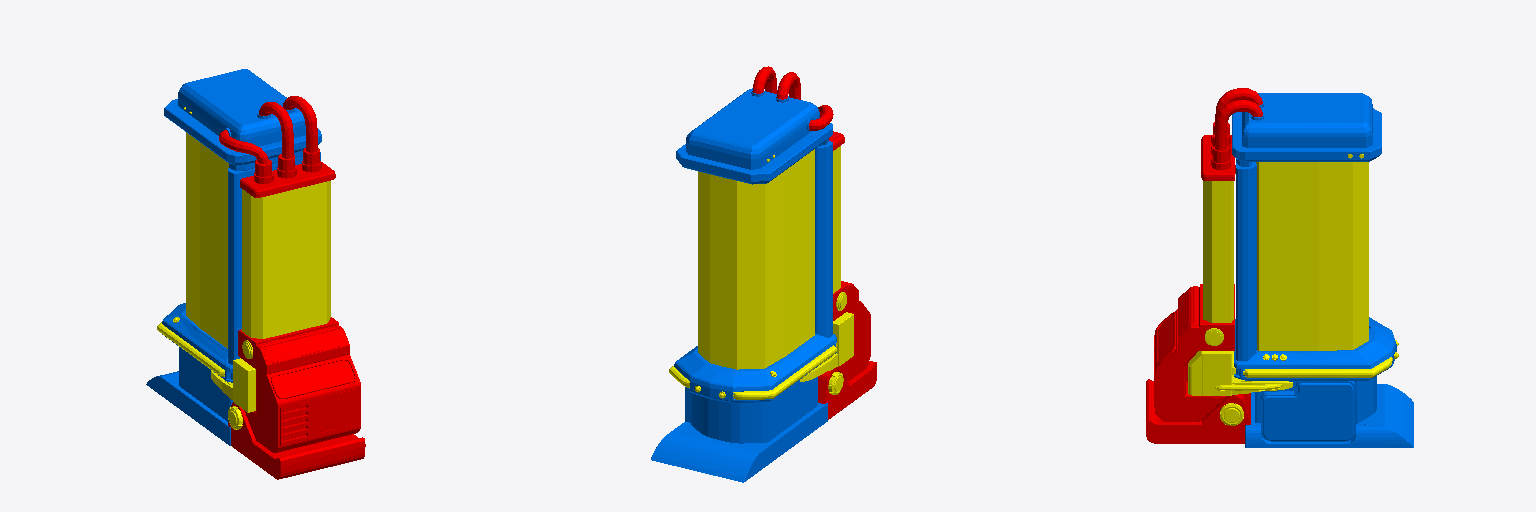
The model's file is SciFiContainer.obj.
3 views of the same model, side by side, from view 1: azimuth 30°, elevation 25°; view 2: azimuth 150°, elevation 25°; view 3: azimuth 270°, elevation 25° (orthographic).
Visible parts, largest first — view 1: Paludarium Yellow2 Yellow1:PaludariumGlassesSideTank, Paludarium Blue Top_Stage_lo Top, Paludarium Red ControlPanelBody polySurface12, Paludarium Yellow2 Yellow1:PaludariumMainTankGlasses, Paludarium Red Base, Paludarium Blue BaseStage_lo, Paludarium Blue SideStage_lo, Paludarium Red Pipes, Paludarium Red pCube1 ControlPanelBody, Paludarium Blue BodyStage_lo, Paludarium Red ConnectorStage, Paludarium Yellow1:PaludariumConnectorConnectorYellow1Paludarium (+4 smaller); view 2: Paludarium Yellow2 Yellow1:PaludariumMainTankGlasses, Paludarium Blue BaseStage_lo, Paludarium Blue Top_Stage_lo Top, Paludarium Blue BodyStage_lo, Paludarium Blue SideStage_lo, Paludarium Red ControlPanelBody polySurface12, Paludarium Red Base, Paludarium Red Pipes, Paludarium Yellow1:PaludariumConnectorConnectorYellow1Paludarium, Paludarium Yellow2 Yellow1:PaludariumGlassesStageTube, Paludarium Yellow2 Yellow1:PaludariumGlassesSideTank; view 3: Paludarium Yellow2 Yellow1:PaludariumMainTankGlasses, Paludarium Blue Top_Stage_lo Top, Paludarium Blue StageTank_lo, Paludarium Blue BaseStage_lo, Paludarium Red ControlPanelBody polySurface12, Paludarium Yellow2 Yellow1:PaludariumGlassesSideTank, Paludarium Blue SideStage_lo, Paludarium Blue BodyStage_lo, Paludarium Red Base, Paludarium Yellow1:PaludariumConnectorConnectorYellow1Paludarium, Paludarium Red Pipes, Paludarium Yellow2 Yellow1:PaludariumGlassesStageTube (+3 smaller).
Boxes of the visible parts, x1=… form: Paludarium Yellow2 Yellow1:PaludariumGlassesSideTank: x1=242, y1=181, x2=330, y2=338; Paludarium Blue Top_Stage_lo Top: x1=164, y1=69, x2=321, y2=170; Paludarium Red ControlPanelBody polySurface12: x1=238, y1=317, x2=360, y2=452; Paludarium Yellow2 Yellow1:PaludariumMainTankGlasses: x1=186, y1=132, x2=228, y2=348; Paludarium Red Base: x1=228, y1=402, x2=365, y2=479; Paludarium Blue BaseStage_lo: x1=146, y1=347, x2=232, y2=445; Paludarium Blue SideStage_lo: x1=228, y1=152, x2=320, y2=364; Paludarium Red Pipes: x1=219, y1=96, x2=317, y2=163; Paludarium Red pCube1 ControlPanelBody: x1=271, y1=359, x2=356, y2=398; Paludarium Blue BodyStage_lo: x1=162, y1=303, x2=232, y2=382; Paludarium Red ConnectorStage: x1=240, y1=162, x2=335, y2=197; Paludarium Yellow1:PaludariumConnectorConnectorYellow1Paludarium: x1=211, y1=358, x2=255, y2=412; Paludarium Yellow2 Yellow1:PaludariumMainTankGlasses: x1=698, y1=149, x2=814, y2=369; Paludarium Blue BaseStage_lo: x1=651, y1=377, x2=827, y2=482; Paludarium Blue Top_Stage_lo Top: x1=676, y1=88, x2=832, y2=184; Paludarium Blue BodyStage_lo: x1=674, y1=333, x2=836, y2=402; Paludarium Blue SideStage_lo: x1=815, y1=141, x2=832, y2=337; Paludarium Red ControlPanelBody polySurface12: x1=833, y1=281, x2=870, y2=380; Paludarium Red Base: x1=818, y1=361, x2=876, y2=419; Paludarium Red Pipes: x1=752, y1=66, x2=833, y2=130; Paludarium Yellow1:PaludariumConnectorConnectorYellow1Paludarium: x1=800, y1=312, x2=853, y2=381; Paludarium Yellow2 Yellow1:PaludariumGlassesStageTube: x1=669, y1=345, x2=836, y2=399; Paludarium Yellow2 Yellow1:PaludariumGlassesSideTank: x1=833, y1=146, x2=840, y2=293; Paludarium Yellow2 Yellow1:PaludariumMainTankGlasses: x1=1256, y1=162, x2=1368, y2=350; Paludarium Blue Top_Stage_lo Top: x1=1232, y1=93, x2=1381, y2=166; Paludarium Blue StageTank_lo: x1=1261, y1=381, x2=1355, y2=441; Paludarium Blue BaseStage_lo: x1=1245, y1=376, x2=1413, y2=447; Paludarium Red ControlPanelBody polySurface12: x1=1154, y1=284, x2=1234, y2=421; Paludarium Yellow2 Yellow1:PaludariumGlassesSideTank: x1=1203, y1=181, x2=1233, y2=322; Paludarium Blue SideStage_lo: x1=1236, y1=162, x2=1256, y2=360; Paludarium Blue BodyStage_lo: x1=1234, y1=317, x2=1396, y2=380; Paludarium Red Base: x1=1146, y1=379, x2=1250, y2=443; Paludarium Yellow1:PaludariumConnectorConnectorYellow1Paludarium: x1=1188, y1=351, x2=1292, y2=395; Paludarium Red Pipes: x1=1215, y1=88, x2=1262, y2=150; Paludarium Yellow2 Yellow1:PaludariumGlassesStageTube: x1=1243, y1=357, x2=1392, y2=377.
Size of the model in its own units: 67.51 by 205 by 149.